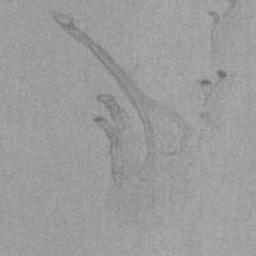Water spot: (47, 0, 256, 229)
